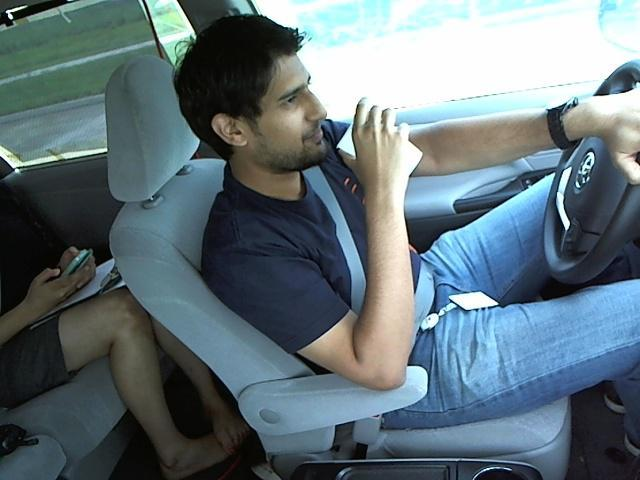Drinking: (177, 16, 423, 191)
